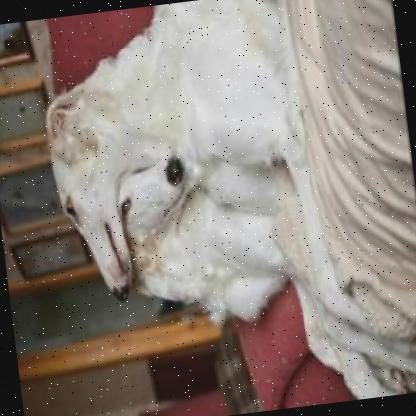dog: (28, 0, 334, 310), (104, 150, 288, 335)
